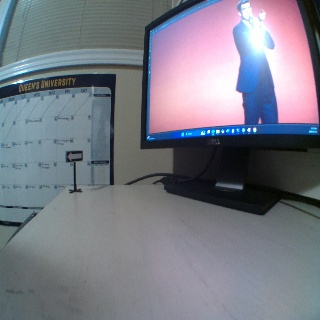sign_oneway_left: (65, 150, 85, 163)
